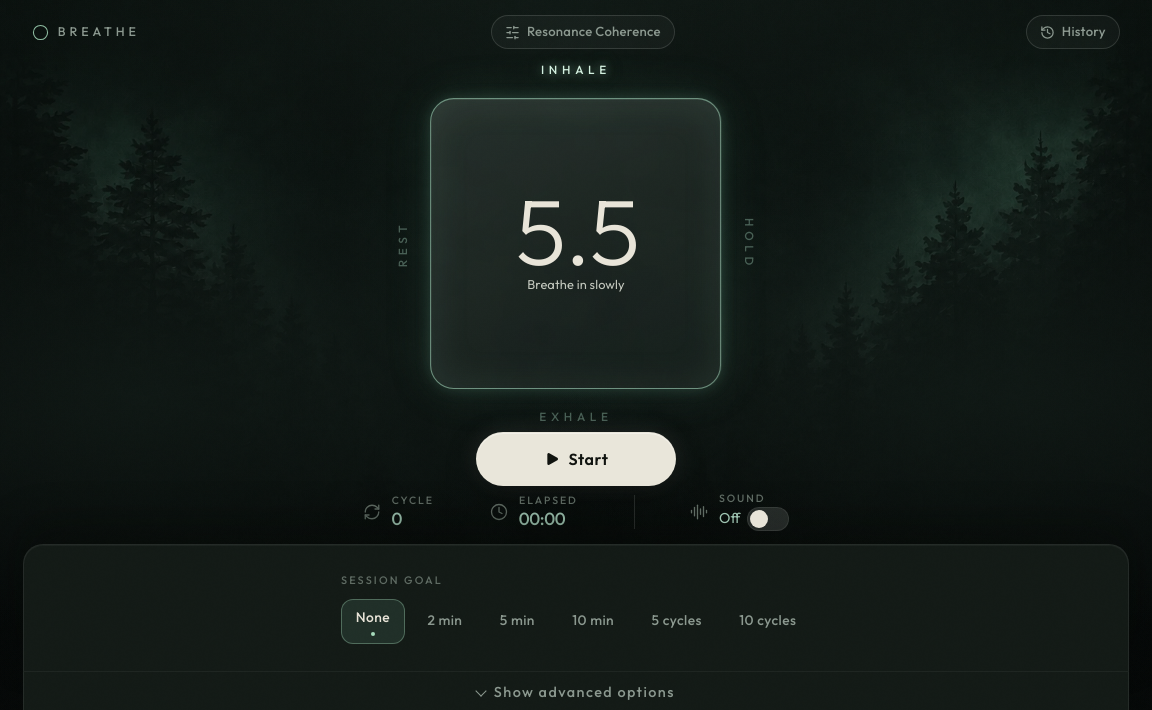
Test case: BreatheApp › handles advanced options disclosure and reveals phase steppers
Click the button "Show advanced options".
click(576, 694)  # box [477,682,675,706]
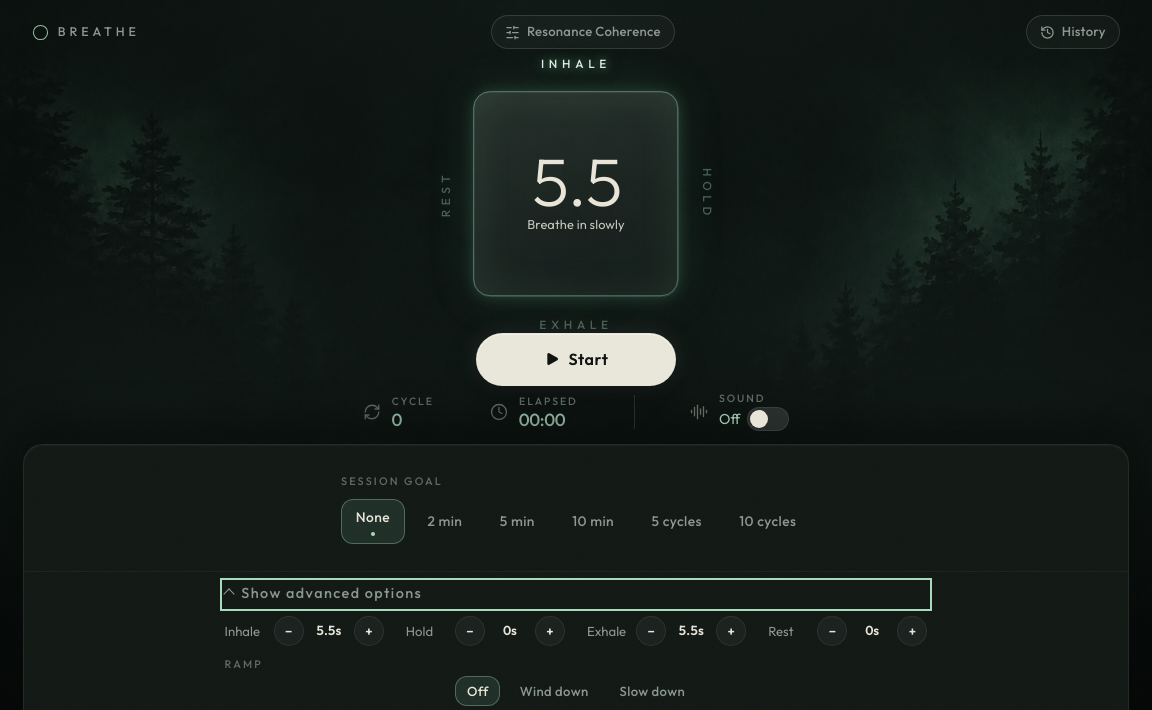
Expected: the button "Show advanced options" is expanded, [225,582,927,606]
Expected: the button named "Decrease inhale duration" is shown, [274,616,304,646]
Expected: the button named "Increase inhale duration" is shown
Click the button named "Increase inhale duration".
click(369, 631)  # box [354,616,384,646]
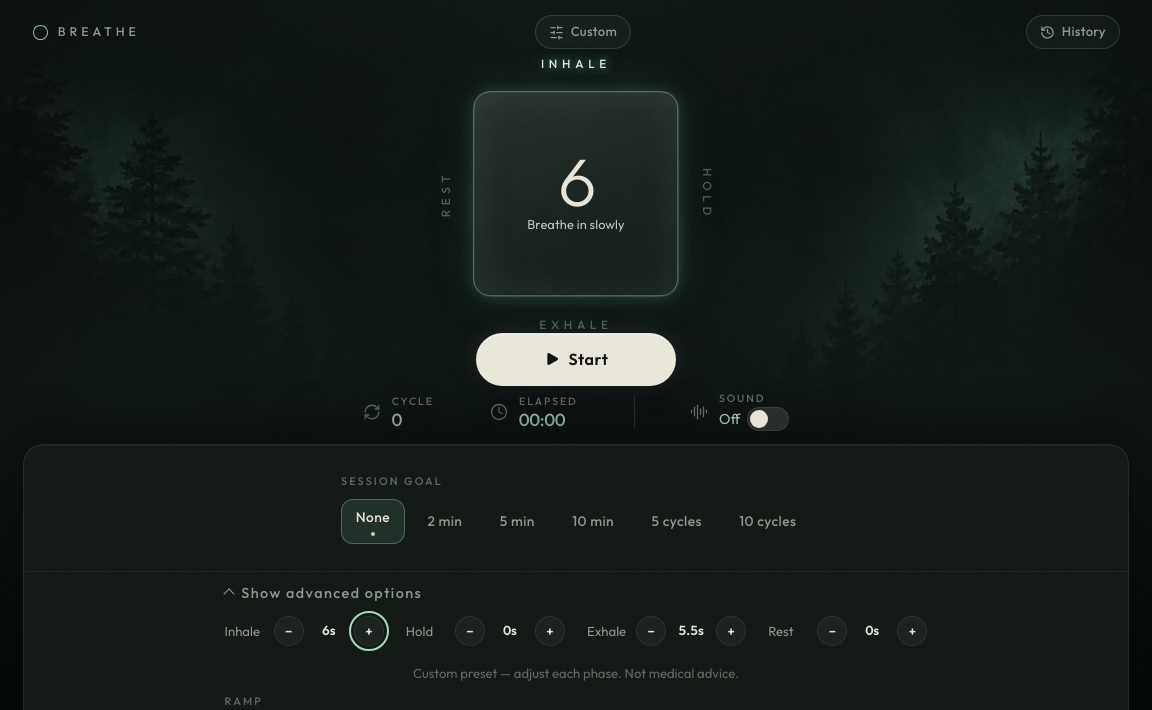
Expected: the text with id "inhaleValue" reads "6s", [322,622,336,638]
